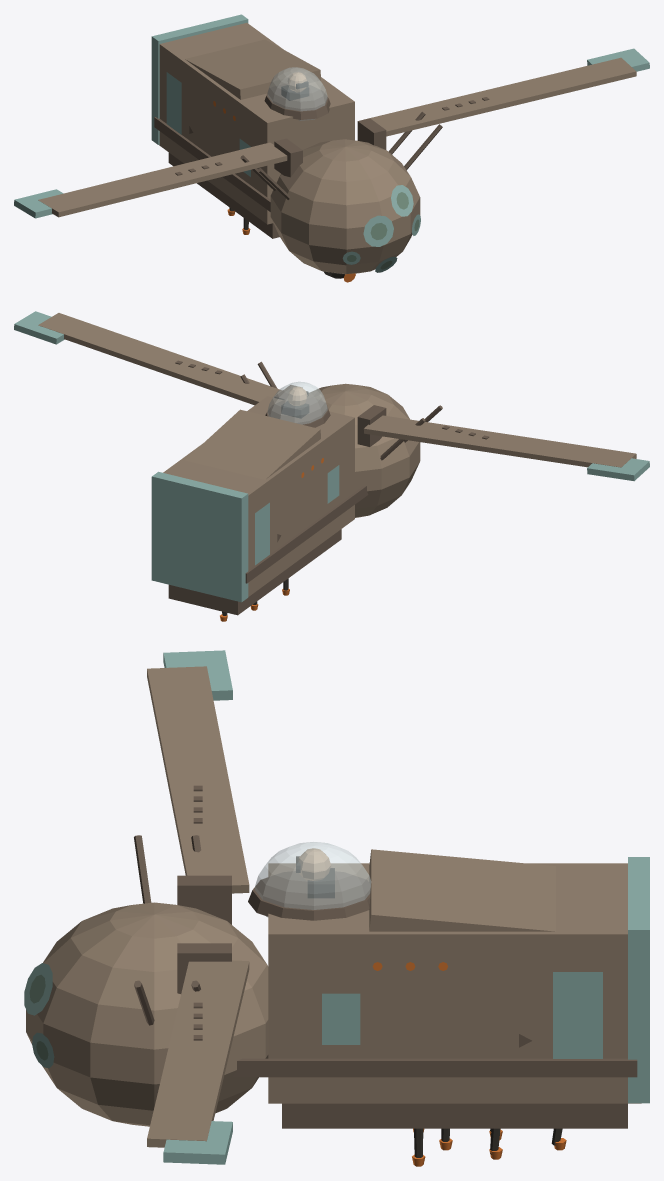
Rendered from gatePodCraft_pod-08-9.glb.
3 renders of one model, top to bottom at view 1: azimuth 30°, elevation 25°; view 2: azimuth 150°, elevation 25°; view 3: azimuth 270°, elevation 25°, orthographic. The views are drawn at different scales.
Visible parts, largest first — view 1: n1, n13, n45, n33, n15, n27, n19, n28, n21, n17, n23, n37 (+5 smaller); view 2: n13, n19, n1, n15, n45, n33, n17, n27, n21, n28, n35, n47 (+2 smaller); view 3: n13, n1, n15, n33, n45, n17, n22, n27, n19, n28, n25, n37 (+6 smaller).
Boxes of the visible parts, box(x1,y1,x2,y2) form: n1: box(270, 139, 420, 274); n13: box(159, 23, 354, 224); n45: box(370, 57, 636, 136); n33: box(38, 142, 287, 217); n15: box(185, 39, 320, 99); n27: box(267, 67, 327, 120); n19: box(151, 14, 248, 144); n28: box(264, 83, 330, 119); n21: box(154, 117, 270, 211); n17: box(168, 152, 279, 238); n23: box(166, 72, 181, 134); n37: box(274, 138, 302, 177); n13: box(163, 396, 354, 596); n19: box(151, 471, 248, 602); n1: box(307, 383, 420, 517); n15: box(185, 409, 320, 479); n45: box(38, 313, 282, 405); n33: box(363, 415, 636, 467); n17: box(168, 529, 341, 615); n27: box(267, 381, 327, 424); n21: box(245, 486, 368, 583); n28: box(265, 397, 330, 427); n35: box(587, 458, 649, 481); n47: box(14, 311, 64, 344); n13: box(268, 863, 641, 1103); n1: box(26, 902, 268, 1126); n15: box(369, 849, 555, 931); n33: box(147, 666, 249, 893); n45: box(147, 960, 249, 1147); n17: box(282, 1103, 627, 1128); n22: box(232, 1058, 637, 1077); n27: box(255, 842, 371, 917); n19: box(628, 857, 649, 1103); n28: box(248, 871, 370, 920); n25: box(553, 972, 602, 1058); n37: box(177, 875, 231, 924).
Size of the model in its own units: 13.11 by 3.67 by 6.98.
